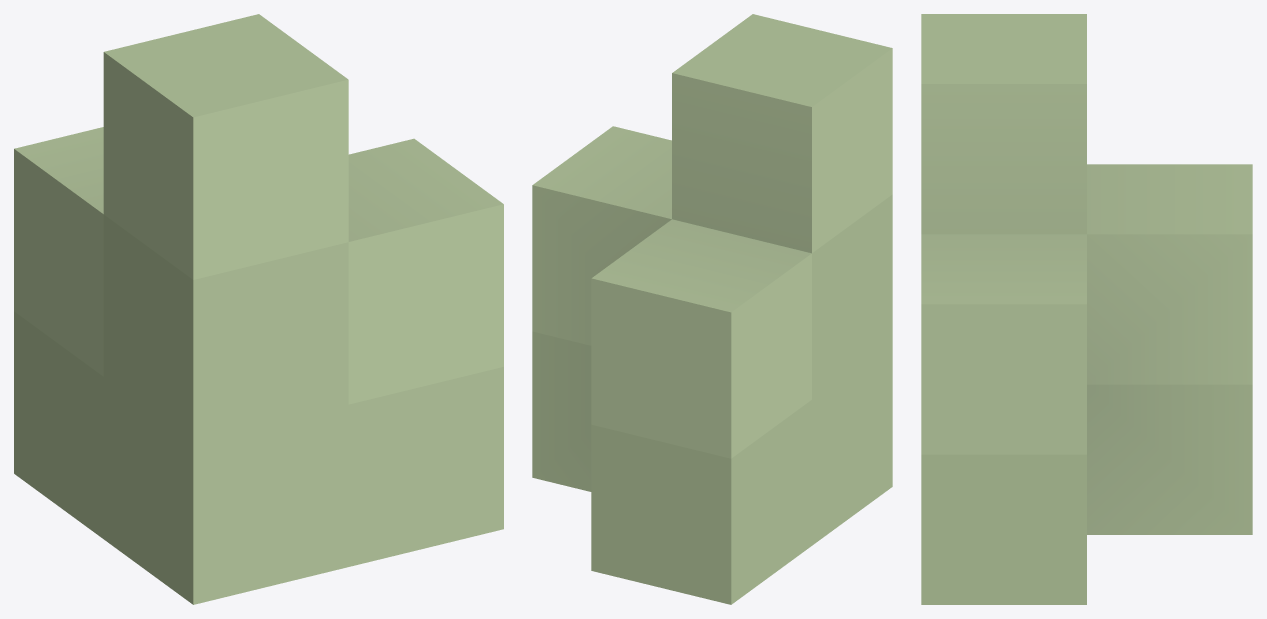
The model's file is decor_tuft_a.glb.
The picture shows the model from 3 angles, left to right: view 1: azimuth 30°, elevation 25°; view 2: azimuth 150°, elevation 25°; view 3: azimuth 270°, elevation 25°; orthographic projection. The views are drawn at different scales.
Parts seen in each view (by area): view 1: decor_tuft_a; view 2: decor_tuft_a; view 3: decor_tuft_a.
Boxes of the visible parts, x1,y1,x2,y2 form: decor_tuft_a: [14, 14, 503, 604]; decor_tuft_a: [532, 14, 892, 604]; decor_tuft_a: [921, 14, 1252, 604].
Size of the model in its own units: 0.125 by 0.1875 by 0.125.
